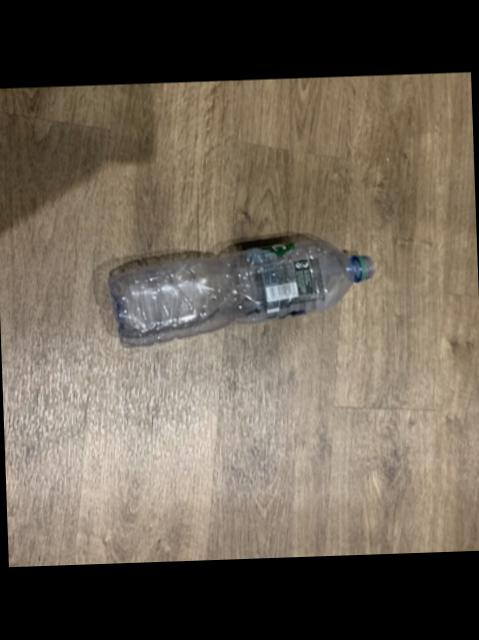plastic: (111, 240, 373, 343)
